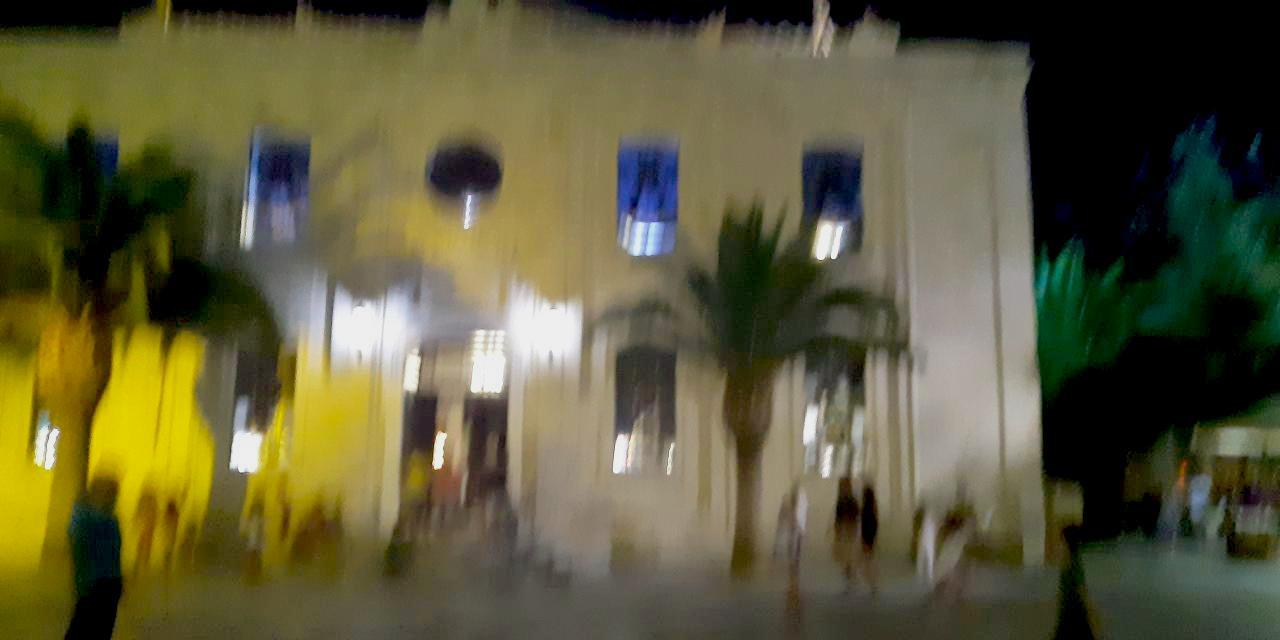Agios Titos: (18, 23, 1045, 572)
